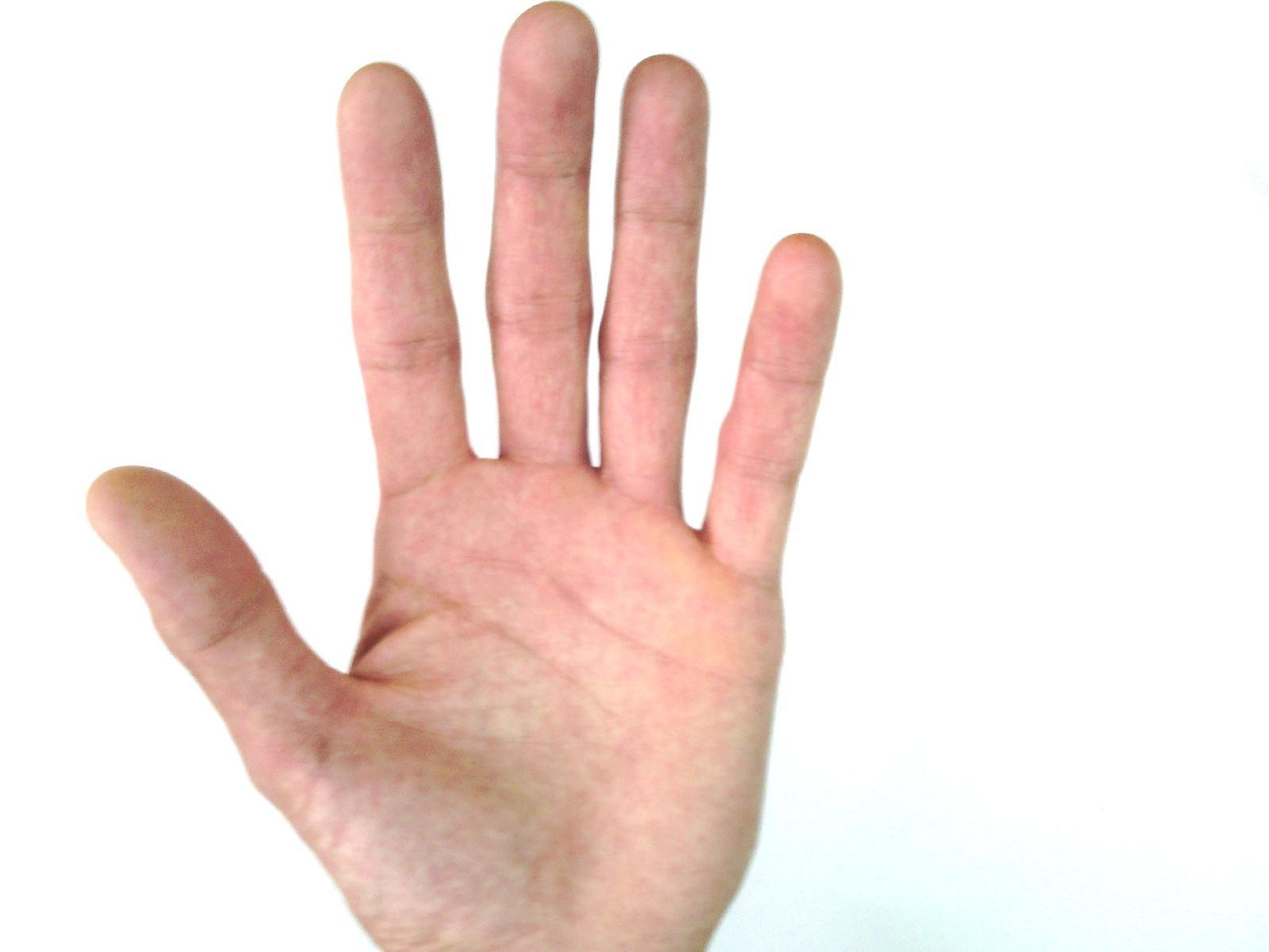open_palm: (84, 5, 847, 951)
